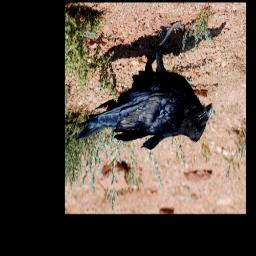Crow: (73, 19, 214, 151)
